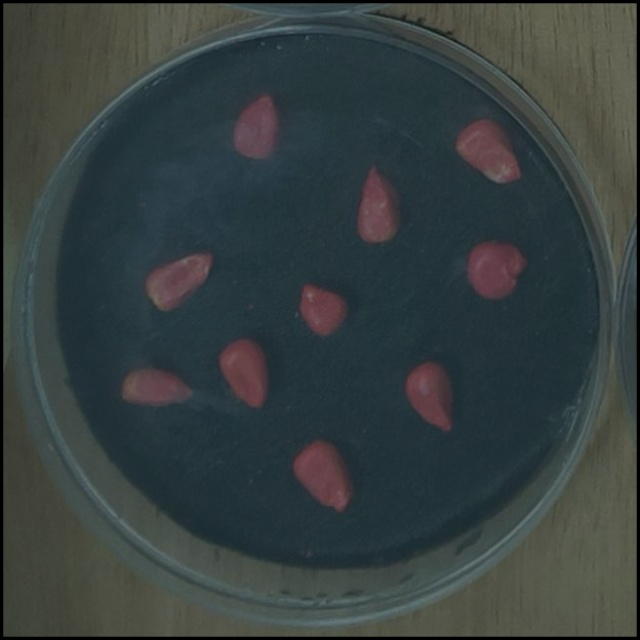Zea mays: (286, 432, 361, 518), (138, 242, 220, 320), (449, 112, 529, 190), (461, 231, 534, 309), (351, 156, 408, 250), (399, 353, 461, 438), (213, 330, 276, 413), (226, 86, 288, 164), (117, 360, 203, 413), (292, 276, 357, 344)
